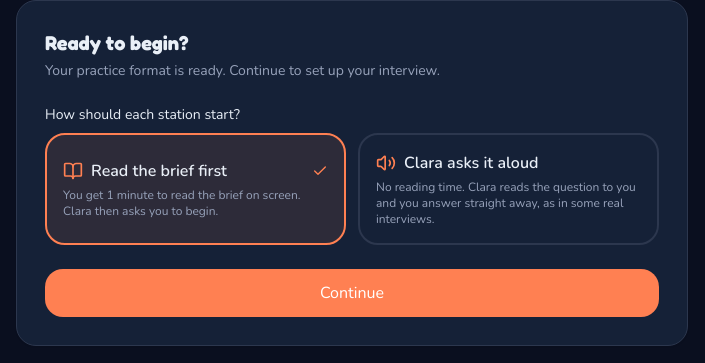
Test: Interview setup: how each station starts › offers reading first or hearing it aloud, and remembers the choice
The width and height of the screenshot is (705, 363).
Click the button that starts with "Clara asks it aloud" at [508, 189], box [358,133,659,245]
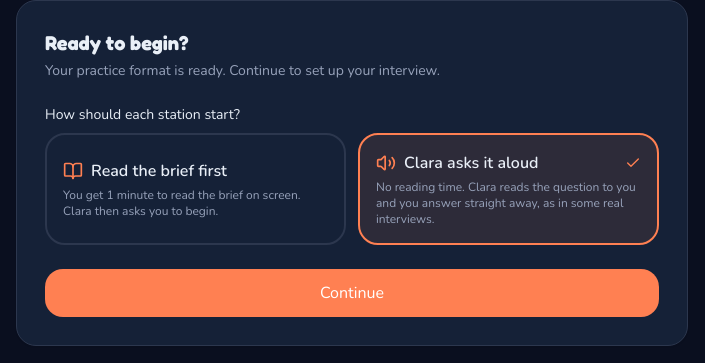
Check: the button that starts with "Clara asks it aloud" is pressed, box [358,133,659,245]
Click the button "Continue" at [352, 293], box [45,269,659,317]
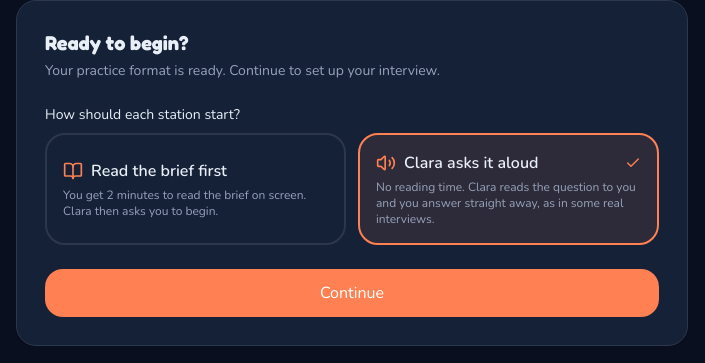
Check: the text "You get 2 minutes to read" is shown, box [63,187,306,219]
